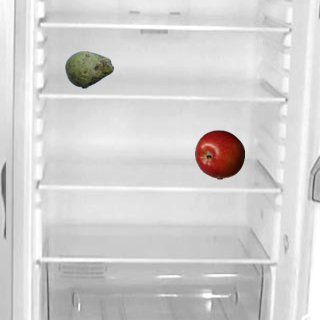Apple Braeburn: (194, 129, 244, 179)
Pear Stone: (64, 44, 114, 94)
